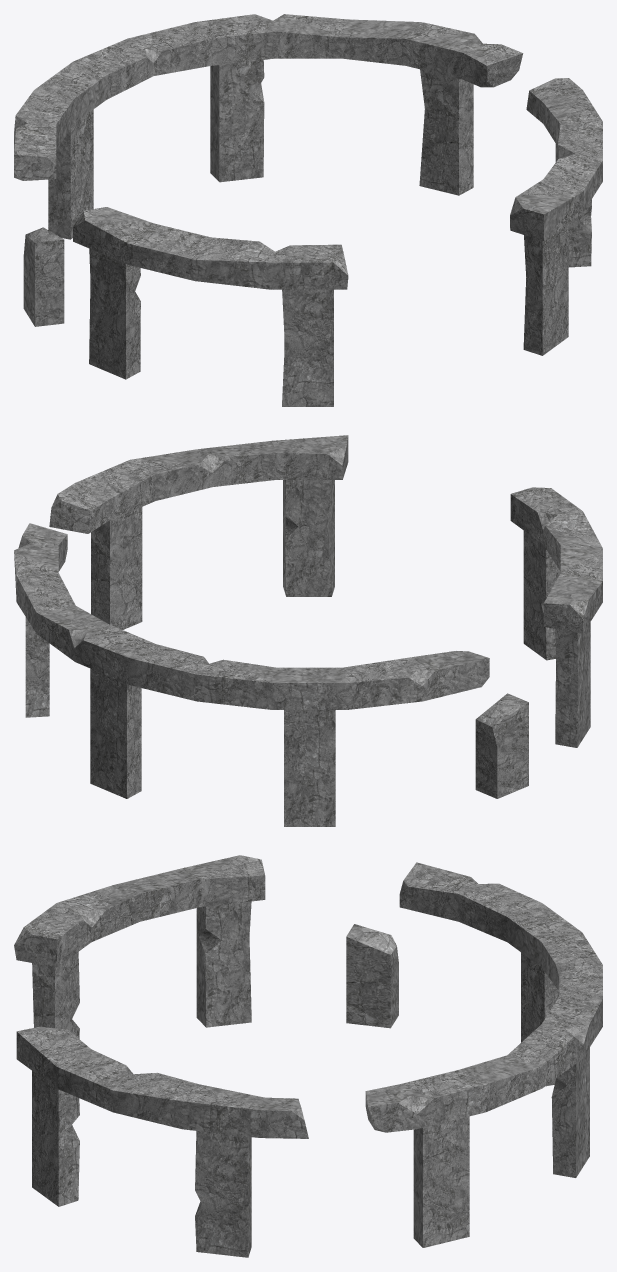
File: materials_3_handrail_2.fbx
The picture shows the model from 3 angles, top to bottom: view 1: azimuth 30°, elevation 25°; view 2: azimuth 150°, elevation 25°; view 3: azimuth 270°, elevation 25°; orthographic projection. The views are drawn at different scales.
Parts seen in each view (by area): view 1: materials_3_handrail_2; view 2: materials_3_handrail_2; view 3: materials_3_handrail_2.
Part boxes in pixels (bbox=[...]): materials_3_handrail_2: bbox=[14, 14, 602, 406]; materials_3_handrail_2: bbox=[14, 435, 602, 826]; materials_3_handrail_2: bbox=[14, 855, 602, 1257].
Size of the model in its own units: 540 by 150 by 522.
